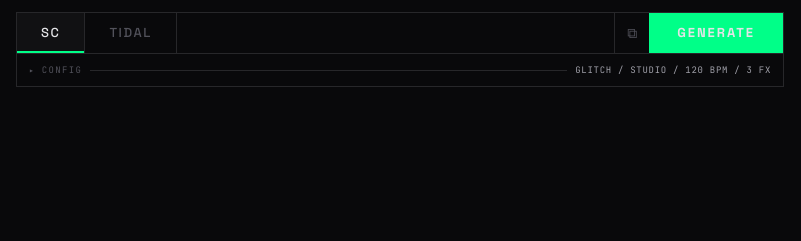
CodegenPanel › updates config summary when generator changes
Click the text "CONFIG". click: click(62, 70)
box: [42,60,82,80]
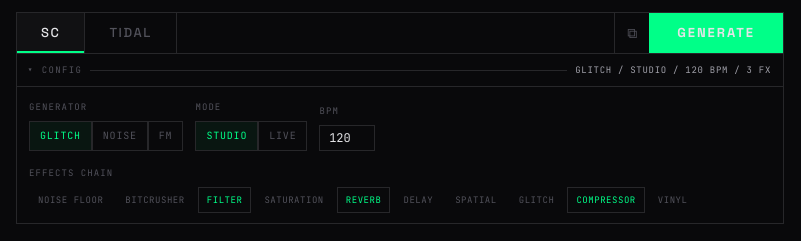
Click the button "noise". click: click(120, 136)
box: [92,121,148,151]
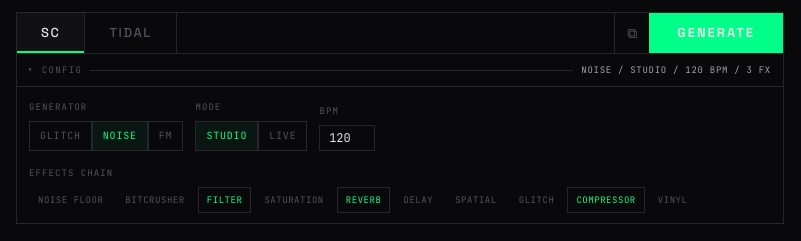
Now the text "NOISE / STUDIO / 120 BPM / 3 FX" is shown, box [581,60,771,80]
